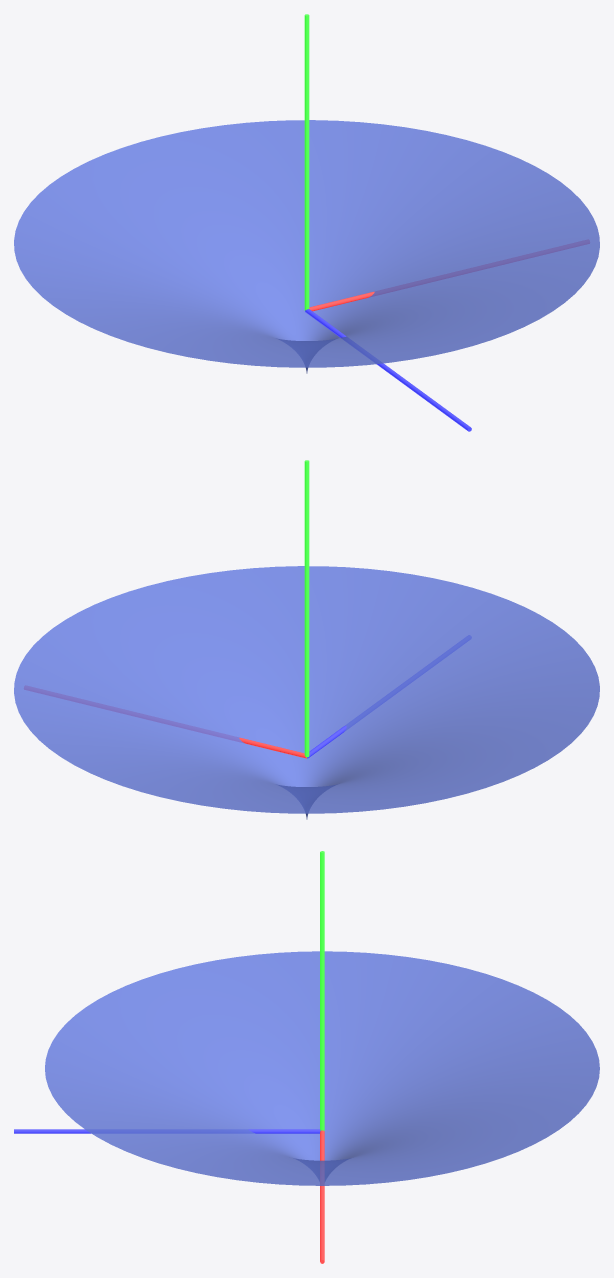
File: solid-of-revolution-paraboloid.glb
3 renders of one model, top to bottom at view 1: azimuth 30°, elevation 25°; view 2: azimuth 150°, elevation 25°; view 3: azimuth 270°, elevation 25°, orthographic. The views are drawn at different scales.
Size of the model in its own units: 3.8 by 2.45 by 3.8.
